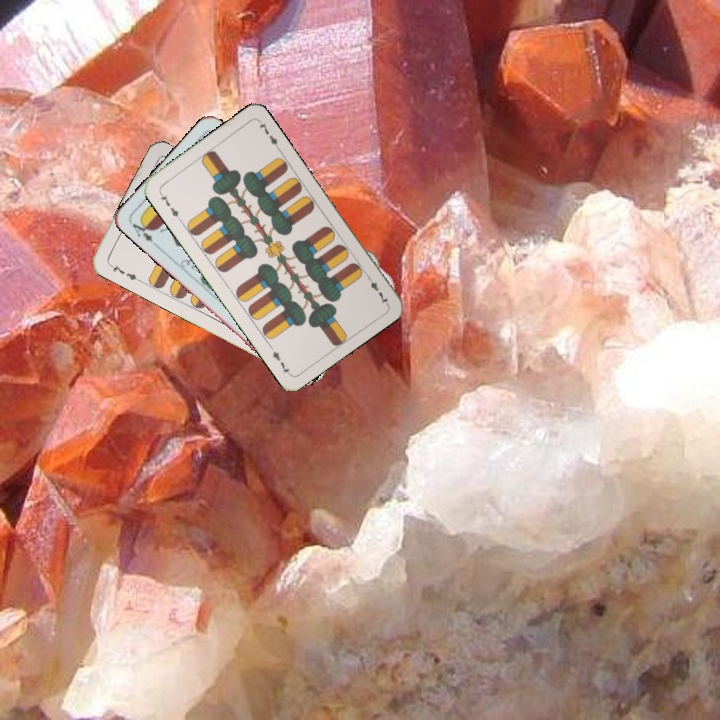E7: (155, 187, 183, 223), (363, 271, 391, 307), (104, 259, 142, 284)
EA: (126, 216, 156, 245)
